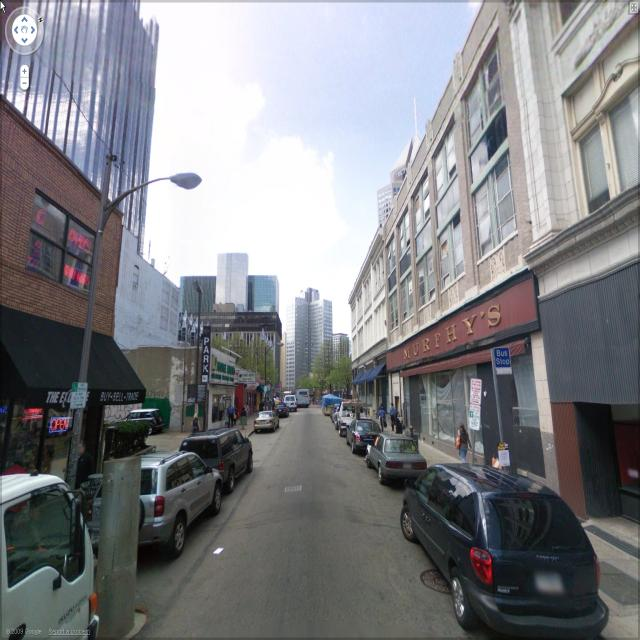b_1: (514, 6, 640, 476), (394, 14, 516, 415), (0, 103, 114, 459), (10, 1, 151, 248), (346, 241, 394, 405), (160, 264, 280, 327), (284, 289, 338, 359), (370, 149, 416, 229), (214, 249, 248, 317)
b_2: (195, 309, 285, 403), (290, 279, 340, 419), (330, 329, 358, 406)
